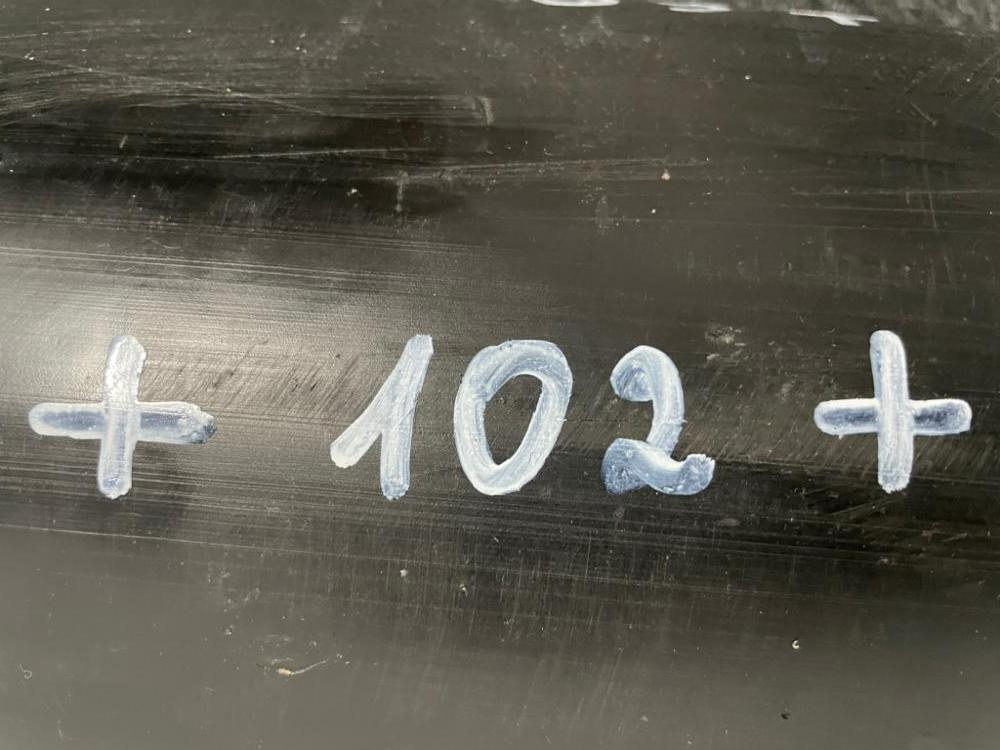+: (28, 334, 216, 503), (816, 327, 975, 496)
0: (445, 335, 579, 500)
1: (327, 336, 441, 509)
2: (592, 338, 716, 499)
